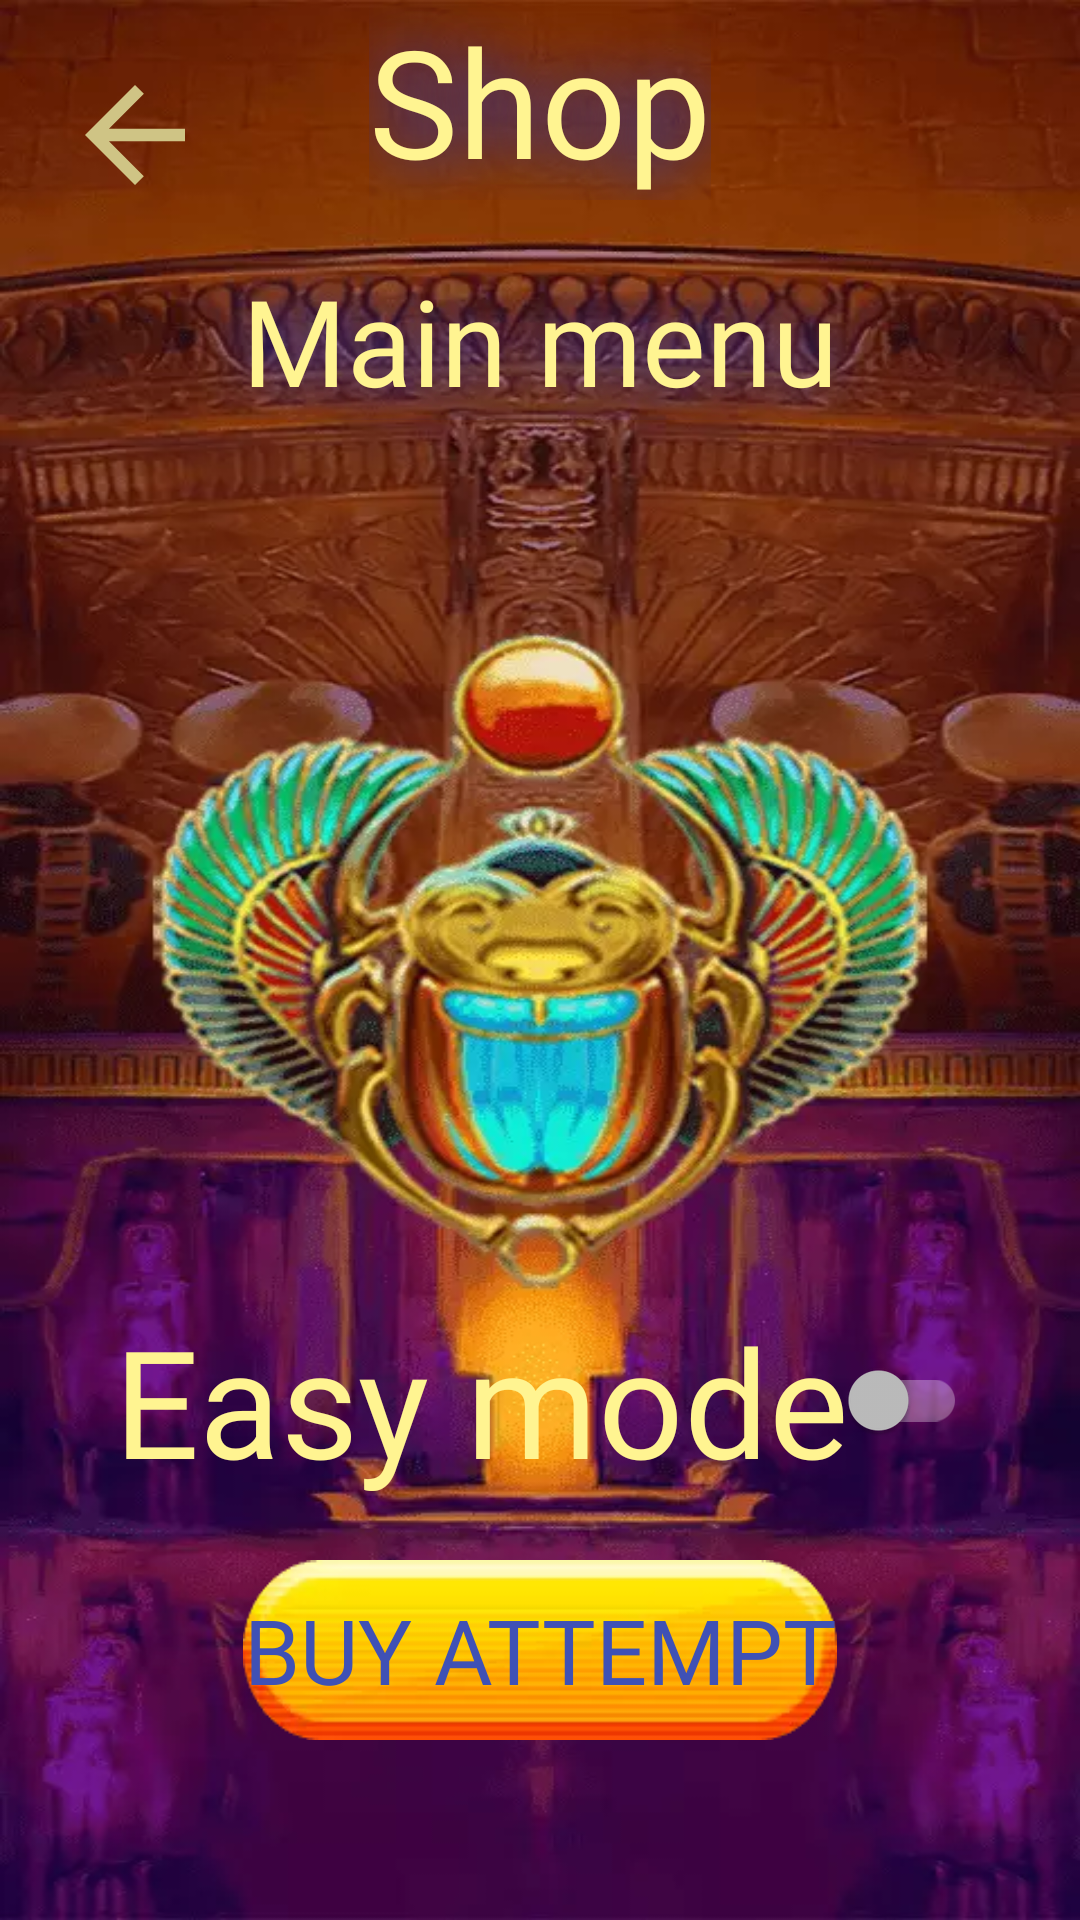

Icons on this 1080w x 1920h Android screen, each with its box as (x1=x1, y1=y1, x2=x2, y2=y2):
back: (x1=60, y1=60, x2=210, y2=209)
